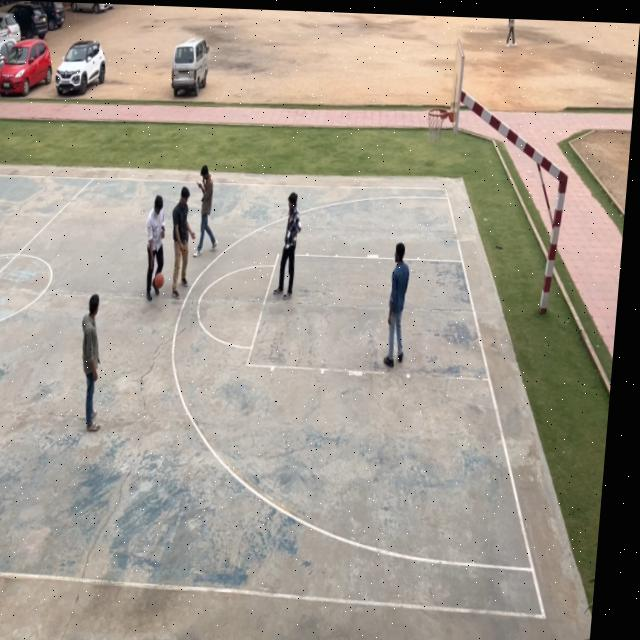basketball: (152, 268, 166, 293)
hoop: (423, 100, 450, 146)
